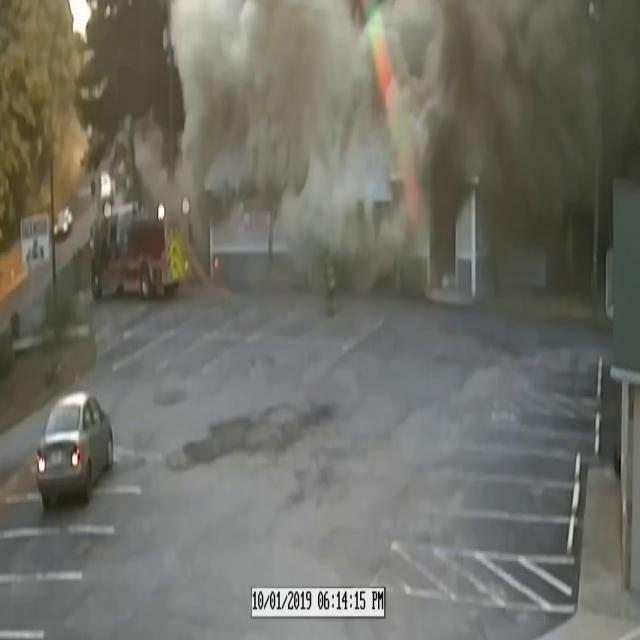Smoke: (150, 0, 362, 286), (393, 0, 640, 209)
